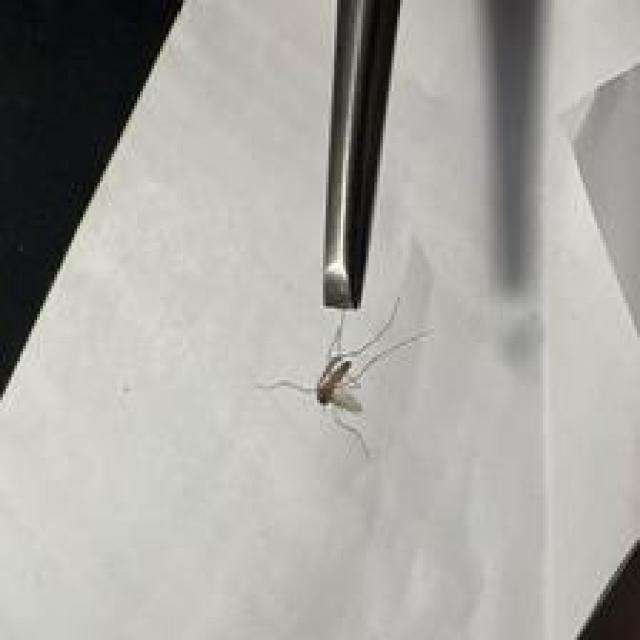Culex: (256, 294, 433, 460)
